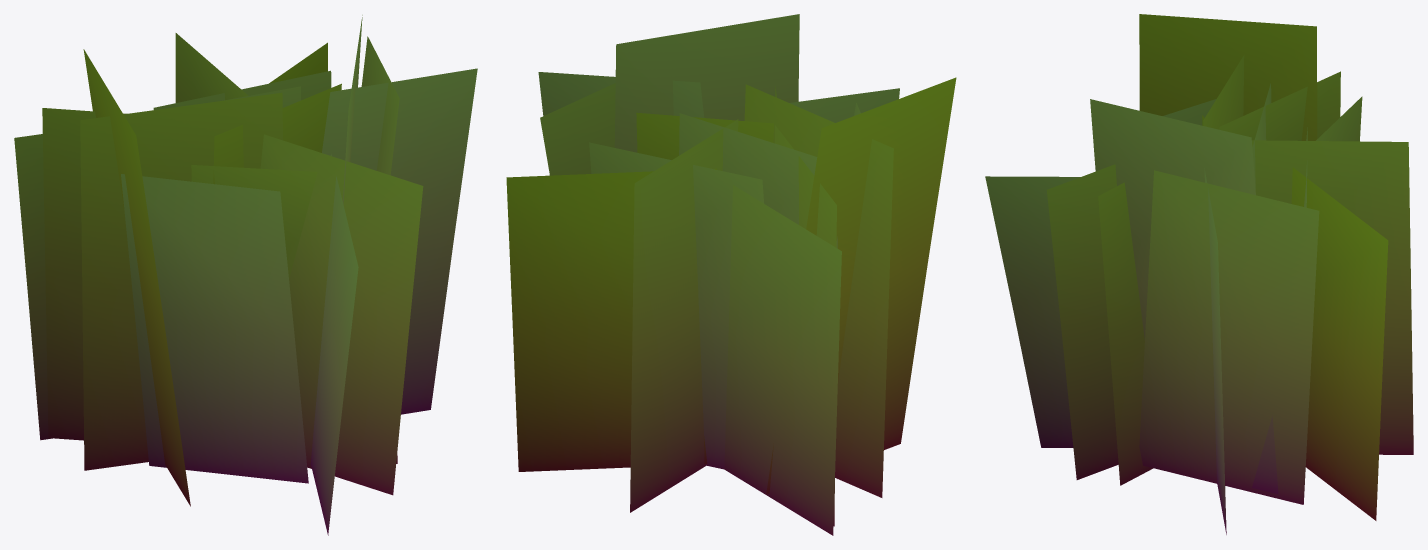
File: reeds.glb
The picture shows the model from 3 angles, left to right: view 1: azimuth 30°, elevation 25°; view 2: azimuth 150°, elevation 25°; view 3: azimuth 270°, elevation 25°; orthographic projection. The views are drawn at different scales.
Visible parts, largest first — view 1: reeds_LOD0; view 2: reeds_LOD0; view 3: reeds_LOD0.
Part boxes in pixels (bbox=[...]): reeds_LOD0: bbox=[14, 15, 477, 535]; reeds_LOD0: bbox=[506, 14, 956, 535]; reeds_LOD0: bbox=[985, 14, 1413, 534].
Size of the model in its own units: 1.58 by 1.58 by 1.63.
